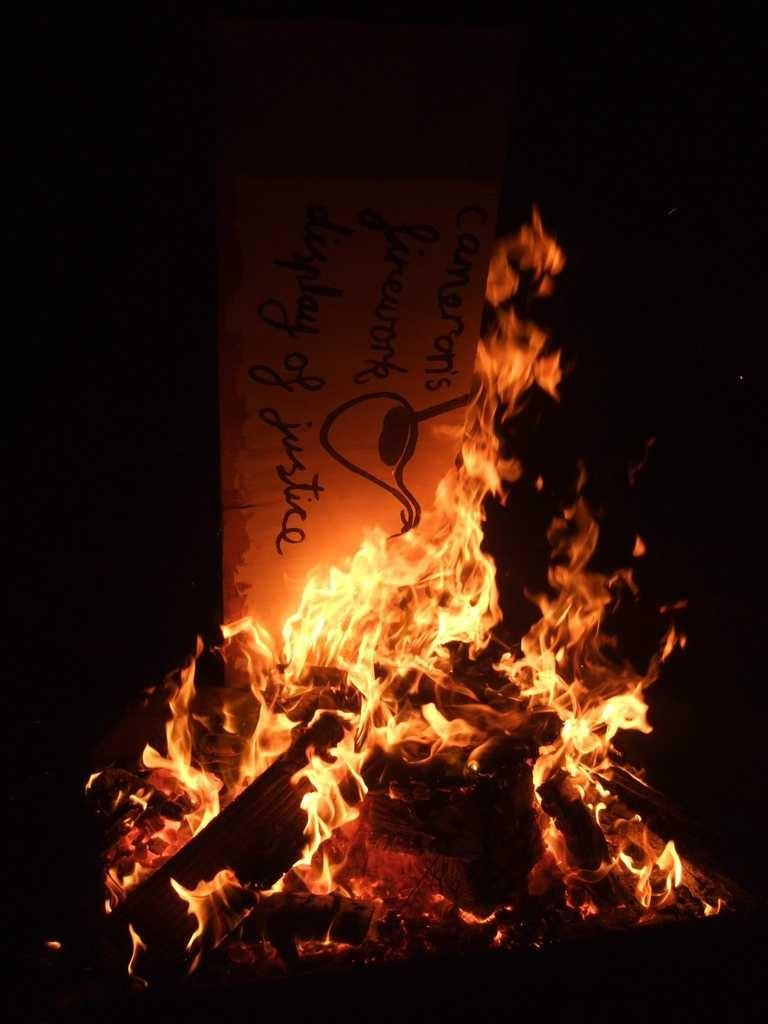fire: (187, 461, 704, 928)
